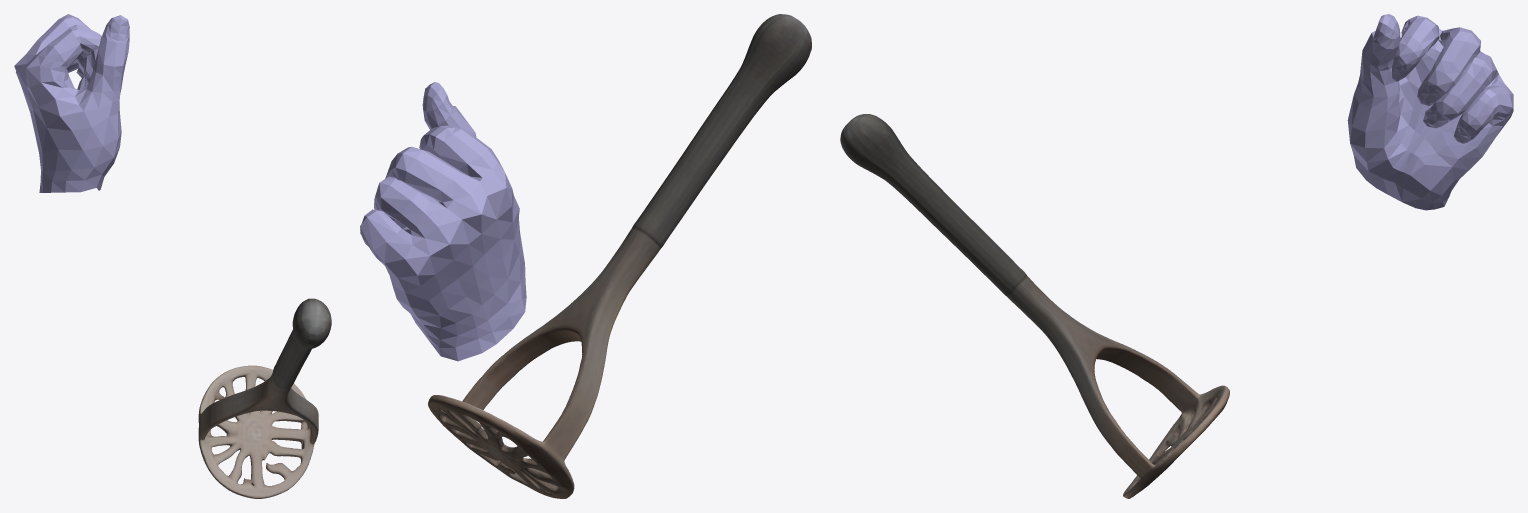
The model's file is frame_0050_source_000050_hand_object.glb.
3 renders of one model, left to right at view 1: azimuth 30°, elevation 25°; view 2: azimuth 150°, elevation 25°; view 3: azimuth 270°, elevation 25°, orthographic. The views are drawn at different scales.
Parts seen in each view (by area): view 1: world; view 2: world; view 3: world.
Boxes of the visible parts, bbox=[...] form: world: bbox=[14, 14, 331, 498]; world: bbox=[360, 14, 811, 498]; world: bbox=[840, 14, 1513, 498].
Size of the model in its own units: 0.1195 by 0.2753 by 0.3653.
